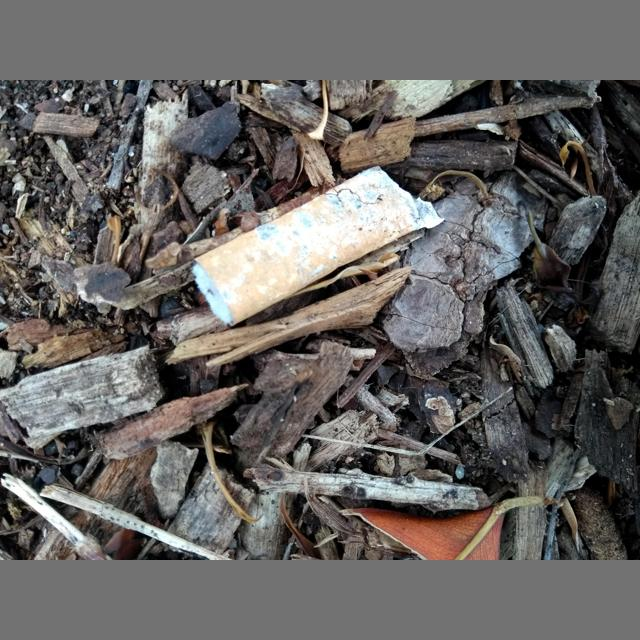litter: (192, 166, 444, 326)
